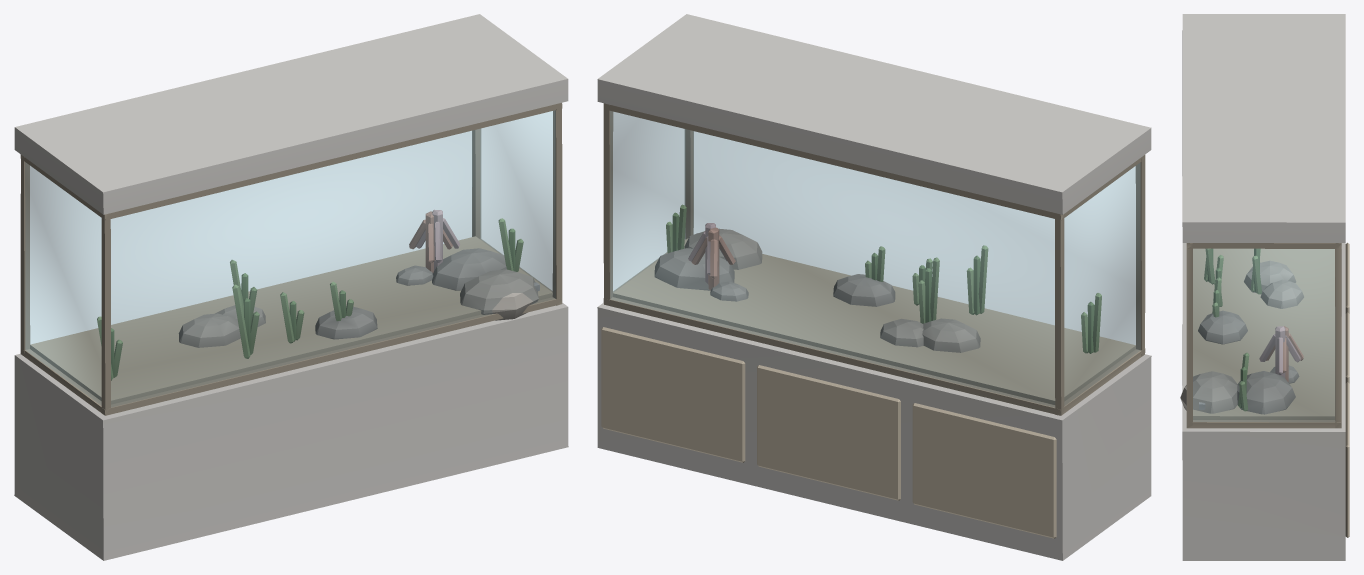
The model's file is furn_aquarium_big__white_low.glb.
3 renders of one model, left to right at view 1: azimuth 30°, elevation 25°; view 2: azimuth 150°, elevation 25°; view 3: azimuth 270°, elevation 25°, orthographic. The views are drawn at different scales.
Size of the model in its own units: 2.39 by 1.82 by 0.8214.
